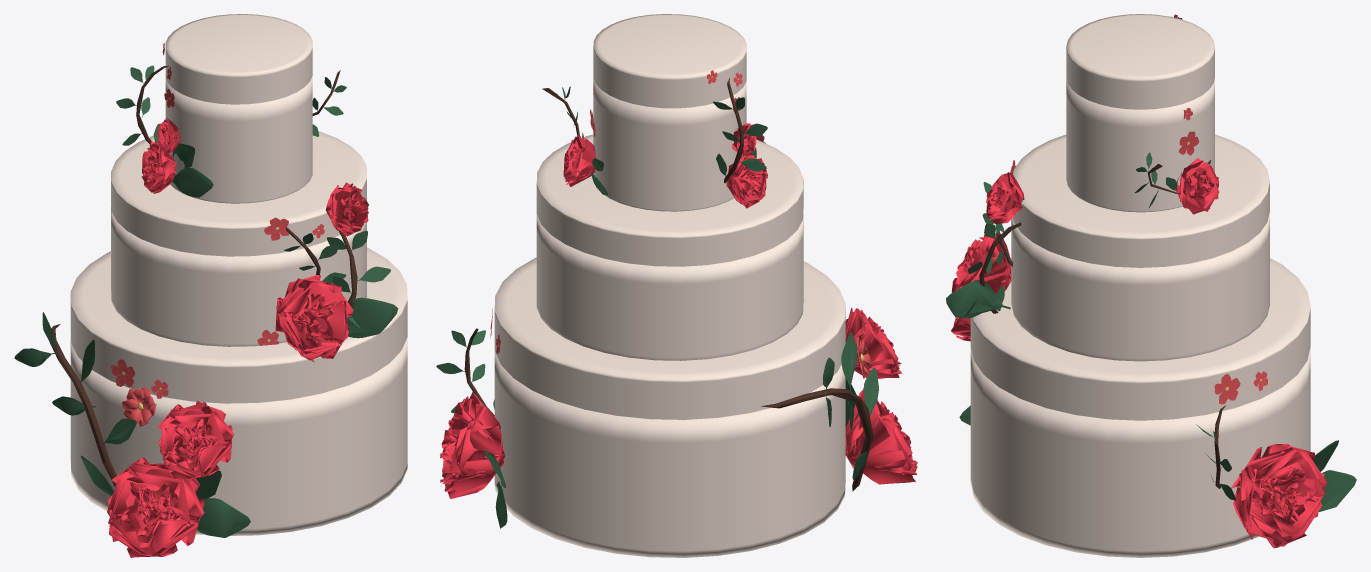
The model's file is 3-tier-white-roses-none.glb.
3 renders of one model, left to right at view 1: azimuth 30°, elevation 25°; view 2: azimuth 150°, elevation 25°; view 3: azimuth 270°, elevation 25°, orthographic. The views are drawn at different scales.
Visible parts, largest first — view 1: Cylinder.022, Cylinder.014, Cylinder.021, grid.042, grid.044, grid.040, Plane.093, grid.043, Plane.087, Plane.091, Plane.095, grid.045 (+7 smaller); view 2: Cylinder.022, Cylinder.014, Cylinder.021, grid.029, grid.042, Plane.093, grid.040, grid.045, Plane.092, grid.047, Plane.084; view 3: Cylinder.022, Cylinder.014, Cylinder.021, grid.029, grid.044, grid.047, Plane.087, grid.043, Plane.095, Plane.082, Plane.084, Plane.078 (+1 smaller).
Part boxes in pixels (x1,y1,x2,y2): Cylinder.022: (70,247,407,535); Cylinder.014: (111,131,366,346); Cylinder.021: (165,14,312,203); grid.042: (107,457,204,557); grid.044: (275,275,353,362); grid.040: (157,400,234,481); Plane.093: (14,312,136,495); grid.043: (326,182,368,236); Plane.087: (347,297,398,338); Plane.091: (197,498,250,537); Plane.095: (327,230,390,328); grid.045: (141,141,176,193); Cylinder.022: (494,257,845,557); Cylinder.014: (536,134,803,360); Cylinder.021: (593,14,746,211); grid.029: (440,392,504,498); grid.042: (845,388,917,484); Plane.093: (761,332,878,491); grid.040: (845,308,901,378); grid.045: (726,155,767,208); Plane.092: (713,78,767,183); grid.047: (563,135,595,186); Plane.084: (436,328,494,416); Cylinder.022: (970,258,1310,557); Cylinder.014: (1011,134,1269,361); Cylinder.021: (1066,14,1214,212); grid.029: (1231,443,1327,548); grid.044: (951,232,1011,293); grid.047: (1174,158,1219,214); Plane.087: (946,279,1010,318); grid.043: (986,172,1024,223); Plane.095: (965,222,1021,316); Plane.082: (1318,470,1356,511); Plane.084: (1196,405,1236,500); Plane.078: (1135,152,1180,207).
Bounding box in the file's own units: 5.28 × 5.83 × 4.9.
